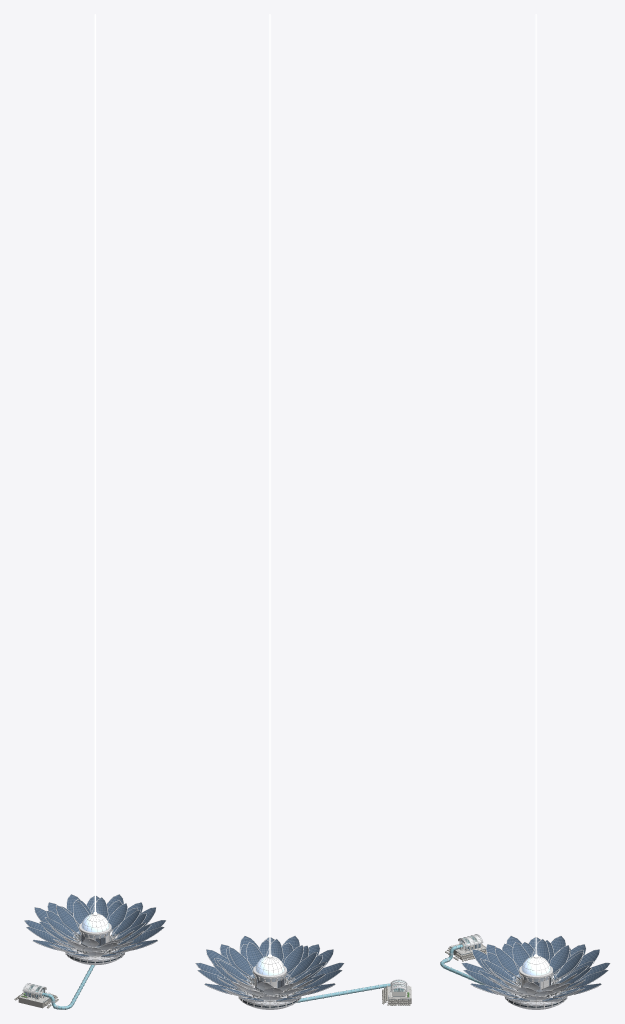
File: bay-flower-receiver.glb
3 renders of one model, left to right at view 1: azimuth 30°, elevation 25°; view 2: azimuth 150°, elevation 25°; view 3: azimuth 270°, elevation 25°, orthographic. The views are drawn at different scales.
Parts seen in each view (by area): view 1: Q02B_Receiver_panel, Q02B_Receiver_frame, Q02B_LightBeam_beam_core, Q02B_Receiver_shell, Q02B_Receiver_dome; view 2: Q02B_Receiver_panel, Q02B_Receiver_frame, Q02B_LightBeam_beam_core, Q02B_Receiver_shell; view 3: Q02B_Receiver_panel, Q02B_Receiver_frame, Q02B_LightBeam_beam_core, Q02B_Receiver_shell, Q02B_Receiver_dome.
Boxes of the visible parts, x1=… form: Q02B_Receiver_panel: x1=25, y1=894, x2=165, y2=956; Q02B_Receiver_frame: x1=24, y1=894, x2=166, y2=964; Q02B_LightBeam_beam_core: x1=93, y1=14, x2=97, y2=914; Q02B_Receiver_shell: x1=37, y1=913, x2=153, y2=957; Q02B_Receiver_dome: x1=81, y1=914, x2=108, y2=932; Q02B_Receiver_panel: x1=196, y1=936, x2=343, y2=1000; Q02B_Receiver_frame: x1=195, y1=935, x2=344, y2=1008; Q02B_LightBeam_beam_core: x1=268, y1=14, x2=271, y2=957; Q02B_Receiver_shell: x1=207, y1=963, x2=332, y2=1001; Q02B_Receiver_panel: x1=462, y1=936, x2=609, y2=1000; Q02B_Receiver_frame: x1=461, y1=935, x2=610, y2=1008; Q02B_LightBeam_beam_core: x1=534, y1=14, x2=538, y2=957; Q02B_Receiver_shell: x1=473, y1=962, x2=596, y2=1001; Q02B_Receiver_dome: x1=521, y1=956, x2=550, y2=975.
Size of the model in its own units: 169 by 912 by 142.
Materials: 29 (3 with a texture image).
